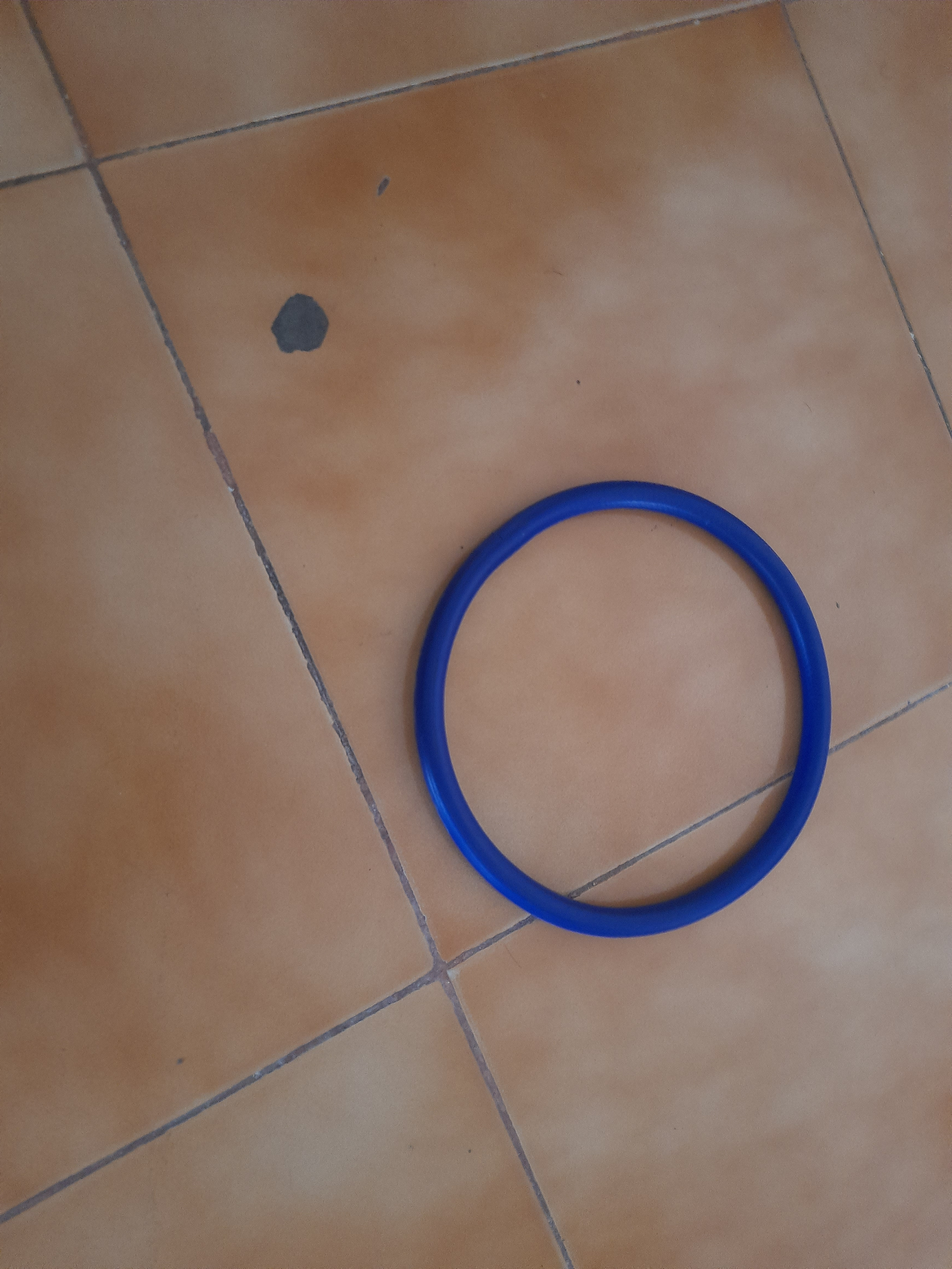Blue ring: (418, 479, 835, 939)
